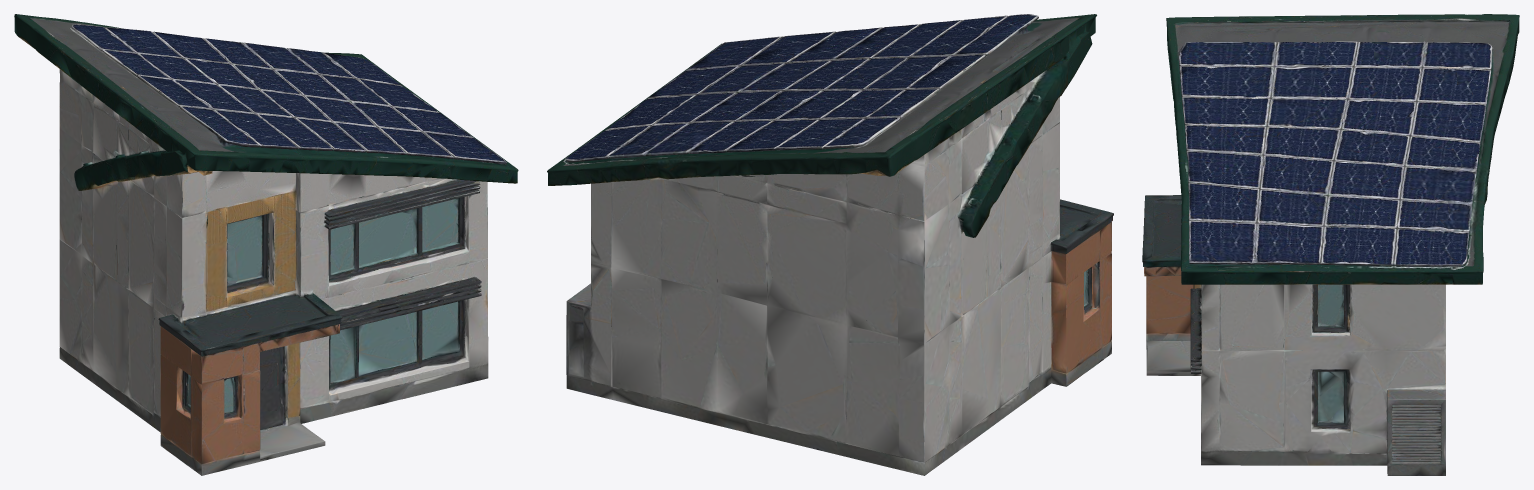
Rendered from solar-house.glb.
3 views of the same model, side by side, from view 1: azimuth 30°, elevation 25°; view 2: azimuth 150°, elevation 25°; view 3: azimuth 270°, elevation 25° (orthographic). The views are drawn at different scales.
Size of the model in its own units: 1.9 by 1.71 by 1.9.
1 material, 1 textured.
